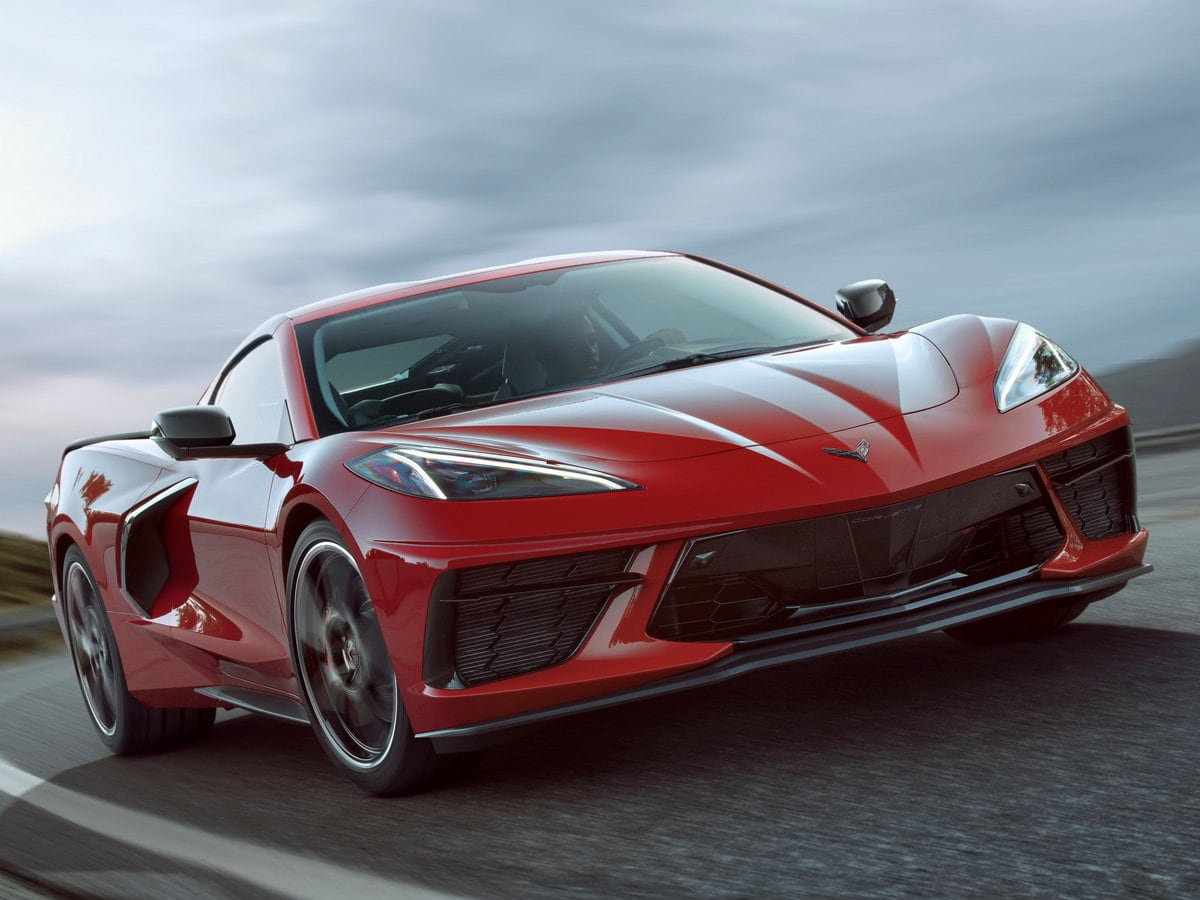car: (31, 241, 1159, 791)
